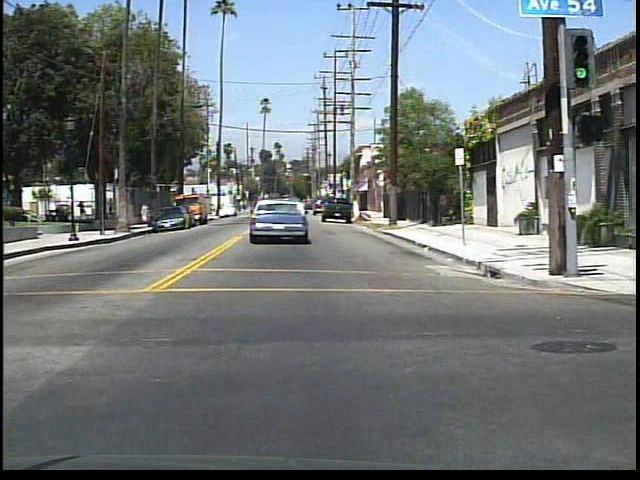person: (141, 200, 154, 228), (104, 195, 118, 220), (78, 198, 88, 221)
